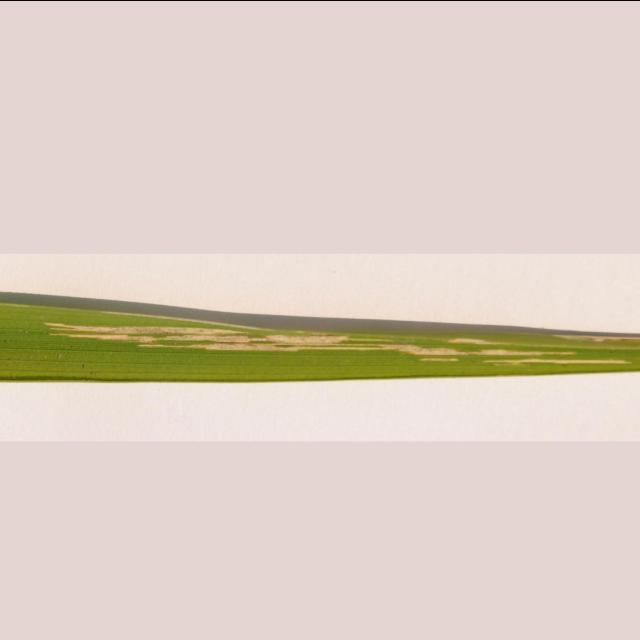Bacterial leaf blight: (37, 309, 370, 358), (377, 334, 640, 369)
